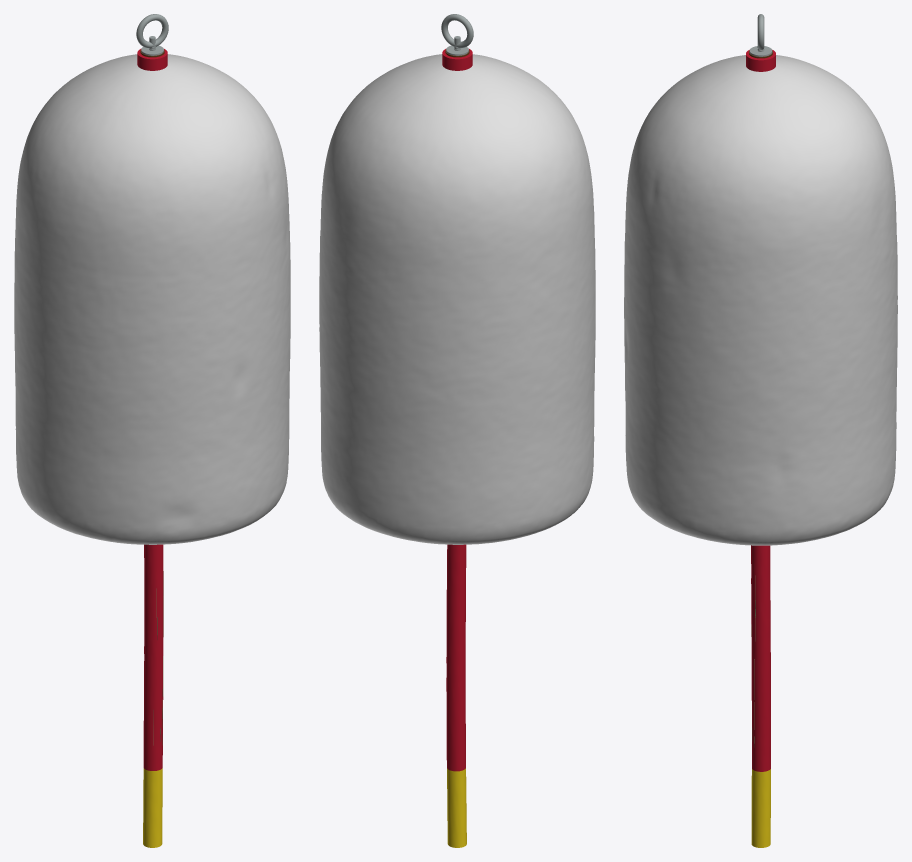
The model's file is lobster_trap_buoy.glb.
3 renders of one model, left to right at view 1: azimuth 30°, elevation 25°; view 2: azimuth 150°, elevation 25°; view 3: azimuth 270°, elevation 25°, orthographic.
Visible parts, largest first — view 1: Float | Rounded foam body with small dents, Stem | Long red marker with yellow tip, Eye | Galvanized attachment loop; view 2: Float | Rounded foam body with small dents, Stem | Long red marker with yellow tip, Eye | Galvanized attachment loop; view 3: Float | Rounded foam body with small dents, Stem | Long red marker with yellow tip.
Part boxes in pixels (bbox=[...]): Float | Rounded foam body with small dents: bbox=[14, 54, 290, 544]; Stem | Long red marker with yellow tip: bbox=[143, 544, 163, 847]; Eye | Galvanized attachment loop: bbox=[136, 14, 168, 48]; Float | Rounded foam body with small dents: bbox=[319, 54, 595, 544]; Stem | Long red marker with yellow tip: bbox=[446, 544, 466, 847]; Eye | Galvanized attachment loop: bbox=[441, 14, 473, 48]; Float | Rounded foam body with small dents: bbox=[624, 55, 897, 545]; Stem | Long red marker with yellow tip: bbox=[751, 545, 770, 847].
Bounding box in the file's own units: 0.2194 × 0.7244 × 0.2171.
